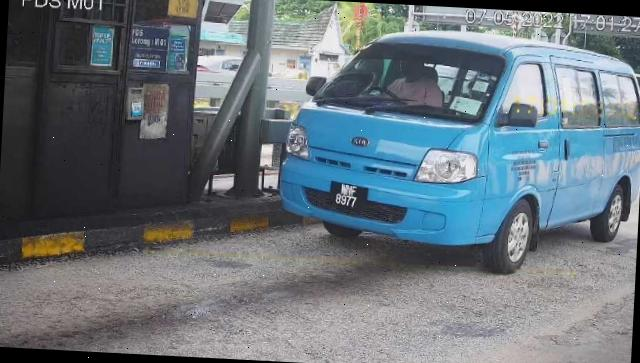License_Plate: (329, 181, 372, 215)
van: (277, 22, 640, 282)
